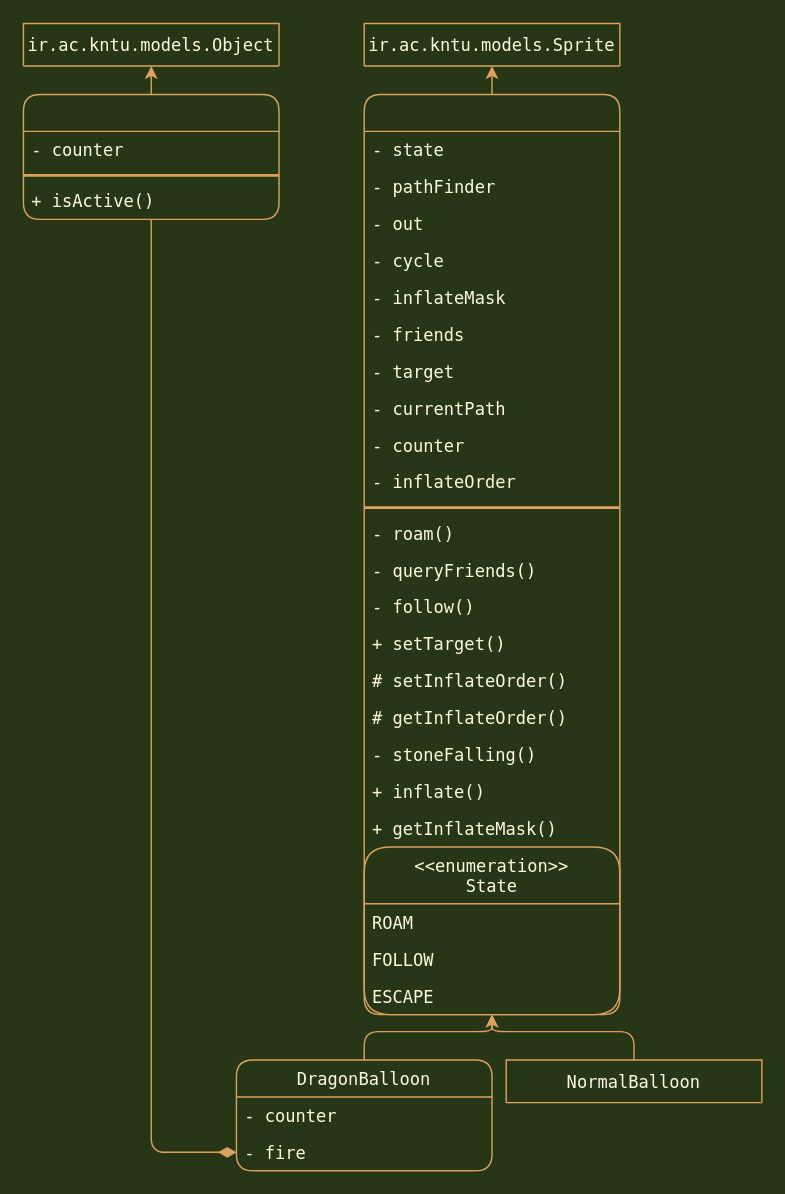
Some shapes in this 785 by 1194 pixel diagram are drawn without their labels. The box of each missing label's shape, as (x1, y1, x2, y2) in pixels:
Balloon: (363, 93, 620, 1015)
Fire: (22, 93, 279, 219)
